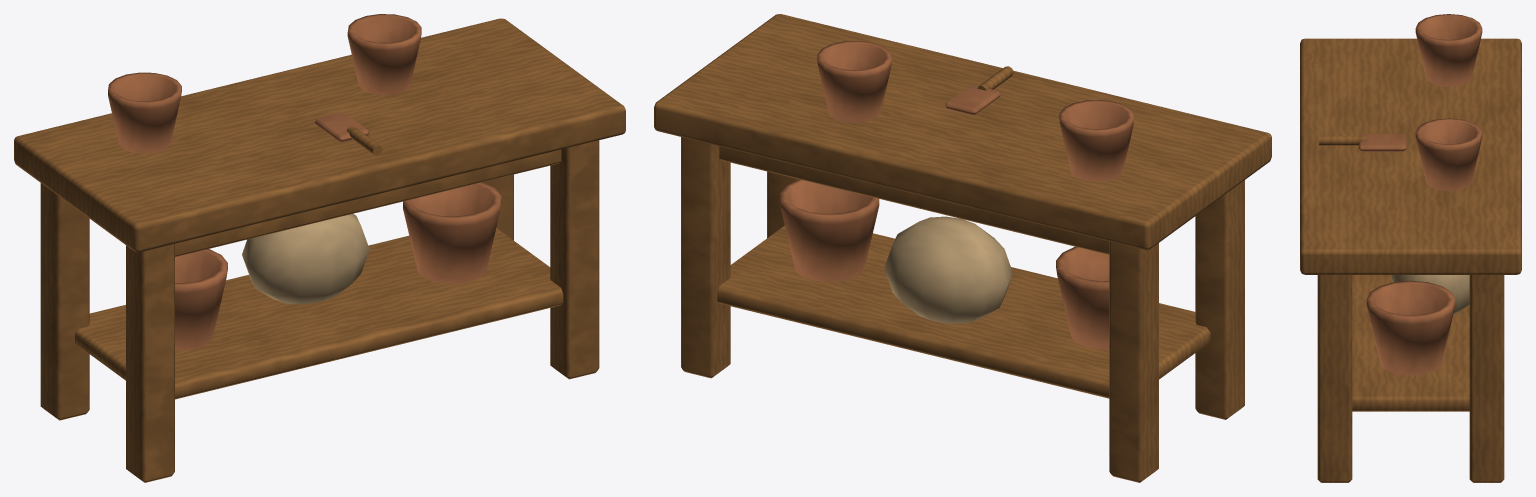
Rendered from Furn_GHWorkbench.fbx.
3 renders of one model, left to right at view 1: azimuth 30°, elevation 25°; view 2: azimuth 150°, elevation 25°; view 3: azimuth 270°, elevation 25°, orthographic. The views are drawn at different scales.
Visible parts, largest first — view 1: Furn_GHWorkbench_Mesh; view 2: Furn_GHWorkbench_Mesh; view 3: Furn_GHWorkbench_Mesh.
Part boxes in pixels (bbox=[...]): Furn_GHWorkbench_Mesh: bbox=[14, 14, 625, 482]; Furn_GHWorkbench_Mesh: bbox=[654, 14, 1271, 482]; Furn_GHWorkbench_Mesh: bbox=[1300, 14, 1521, 482].
Size of the model in its own units: 1.6 by 1.01 by 0.7.
Materials: 3 (3 with a texture image).
